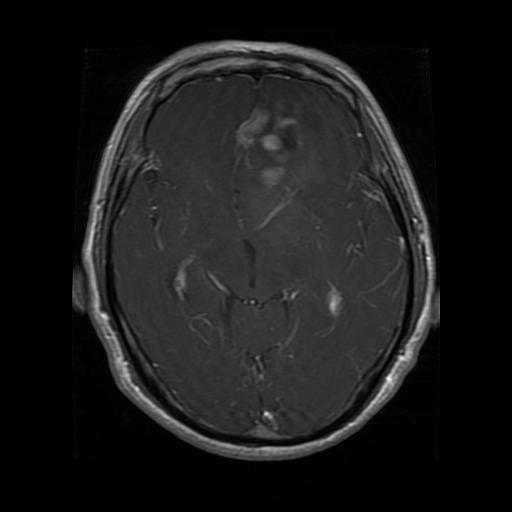Tumour-Glioma: (230, 107, 307, 183)
